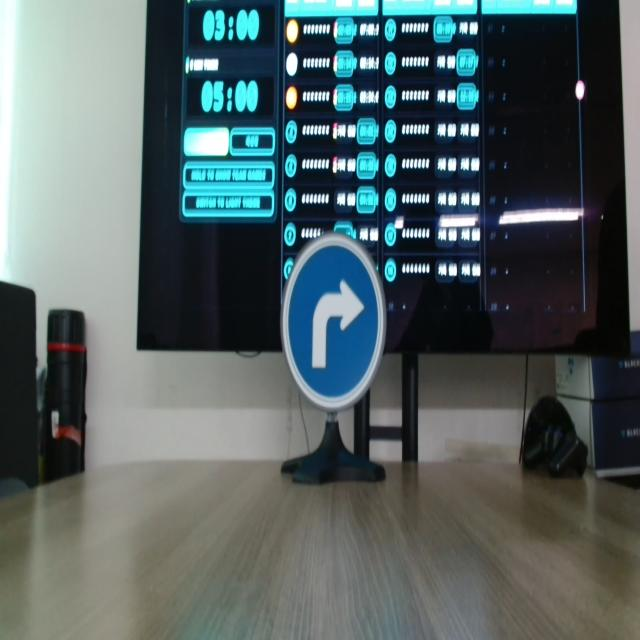right_dierection: (282, 235, 385, 405)
